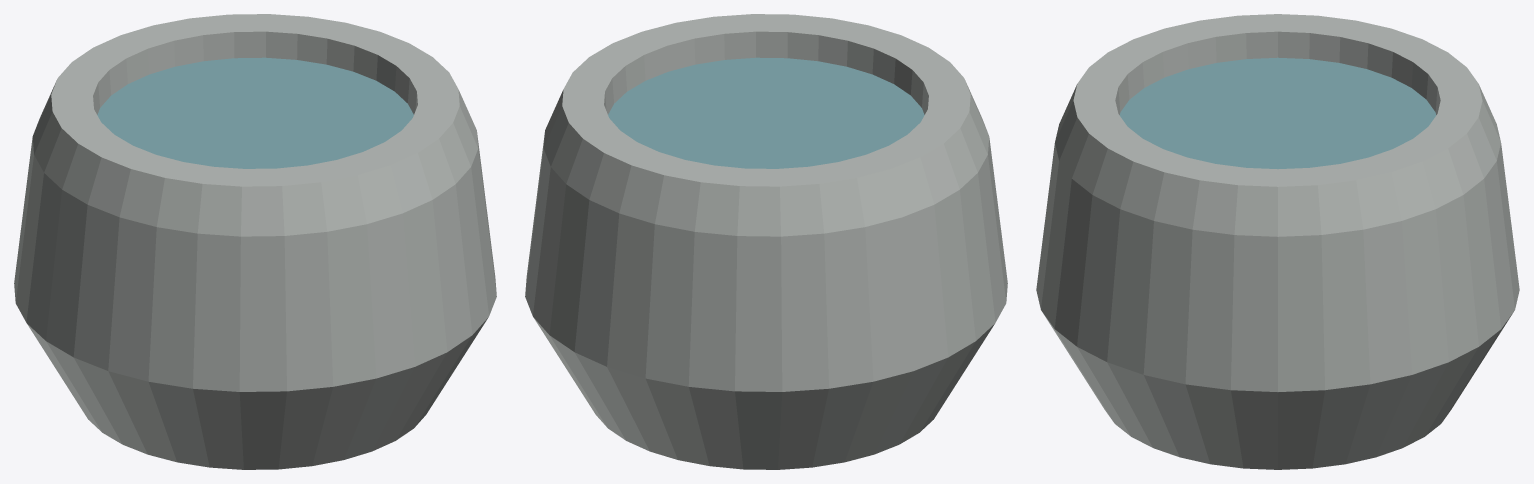
The model's file is prop_water_jar.glb.
3 renders of one model, left to right at view 1: azimuth 30°, elevation 25°; view 2: azimuth 150°, elevation 25°; view 3: azimuth 270°, elevation 25°, orthographic.
Visible parts, largest first — view 1: prop_water_jar/stone_water_jar_basin_00000, prop_water_jar/water_jar_surface_00001; view 2: prop_water_jar/stone_water_jar_basin_00000, prop_water_jar/water_jar_surface_00001; view 3: prop_water_jar/stone_water_jar_basin_00000, prop_water_jar/water_jar_surface_00001.
Boxes of the visible parts, x1,y1,x2,y2 form: prop_water_jar/stone_water_jar_basin_00000: (14, 14, 496, 469); prop_water_jar/water_jar_surface_00001: (97, 57, 413, 168); prop_water_jar/stone_water_jar_basin_00000: (525, 14, 1007, 469); prop_water_jar/water_jar_surface_00001: (608, 57, 924, 168); prop_water_jar/stone_water_jar_basin_00000: (1036, 14, 1519, 469); prop_water_jar/water_jar_surface_00001: (1119, 57, 1436, 169).
Size of the model in its own units: 1.04 by 0.75 by 1.04.
